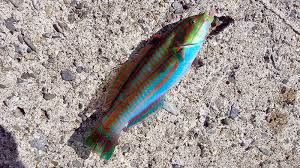bera: (61, 5, 225, 168)
